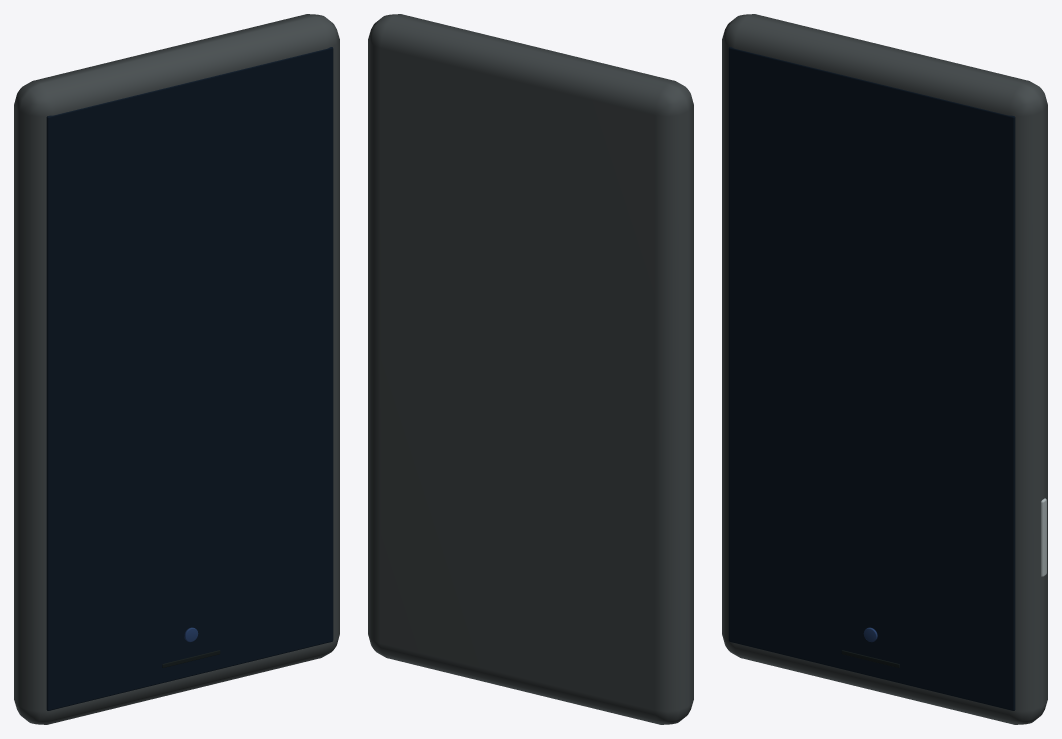
File: phone.glb
3 views of the same model, side by side, from view 1: azimuth 30°, elevation 25°; view 2: azimuth 150°, elevation 25°; view 3: azimuth 330°, elevation 25° (orthographic).
Parts seen in each view (by area): view 1: phone visual Stereo optical cover, phone visual Anodized actuator housings; view 2: phone visual Anodized actuator housings; view 3: phone visual Stereo optical cover, phone visual Anodized actuator housings.
Boxes of the visible parts, x1,y1,x2,y2 form: phone visual Stereo optical cover: (46,47,333,710); phone visual Anodized actuator housings: (14,14,339,724); phone visual Anodized actuator housings: (368,14,693,724); phone visual Stereo optical cover: (728,47,1015,710); phone visual Anodized actuator housings: (722,14,1047,724).
Size of the model in its own units: 0.0825 by 0.158 by 0.0127.
